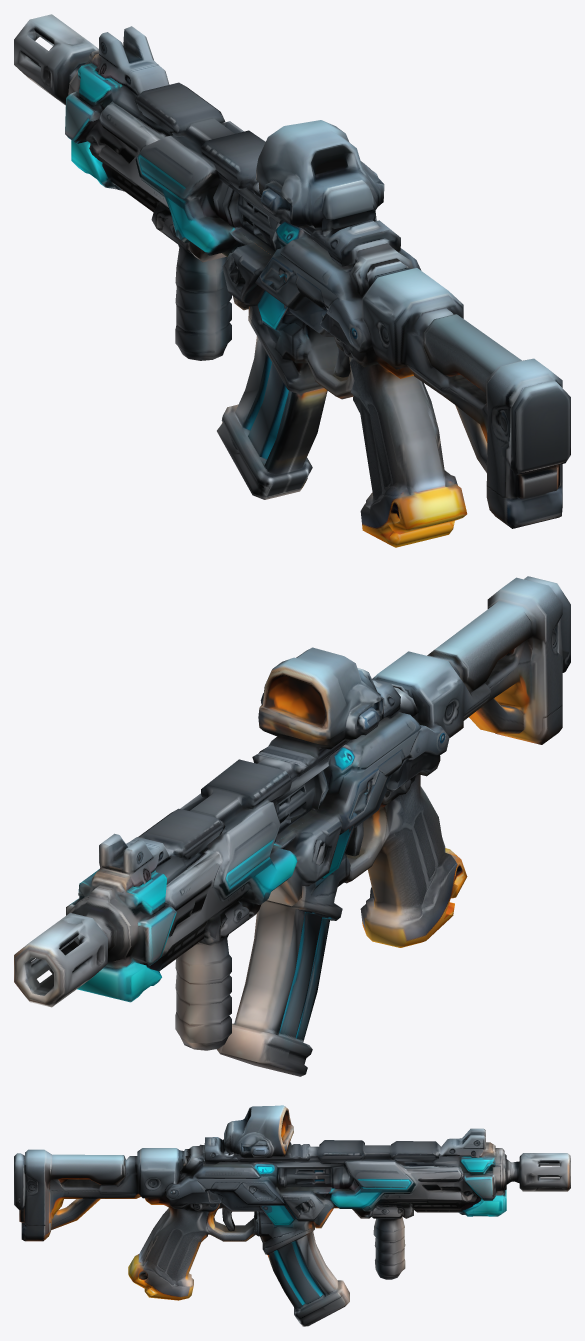
Rendered from rifle_clean.glb.
The picture shows the model from 3 angles, top to bottom: view 1: azimuth 30°, elevation 25°; view 2: azimuth 150°, elevation 25°; view 3: azimuth 270°, elevation 25°; orthographic projection. The views are drawn at different scales.
Parts seen in each view (by area): view 1: Rifle; view 2: Rifle; view 3: Rifle.
Boxes of the visible parts, x1=… form: Rifle: x1=14, y1=14, x2=570, y2=547; Rifle: x1=14, y1=576, x2=570, y2=1076; Rifle: x1=14, y1=1105, x2=570, y2=1326.
Size of the model in its own units: 0.1207 by 0.4113 by 0.9787.
Materials: 1 (1 with a texture image).
